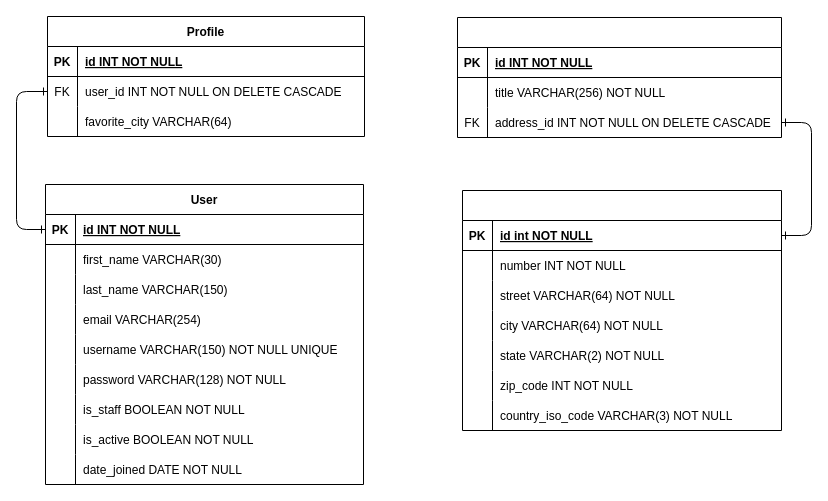
Some shapes in this 828 by 501 pixel diagram are drawn without their labels. The shapes that lost their labels are listed below. From the top down, each one's box as (x1, y1, x2, y2) in pixels, then its label:
(456, 16, 782, 138): Letting
(462, 190, 782, 430): Address
